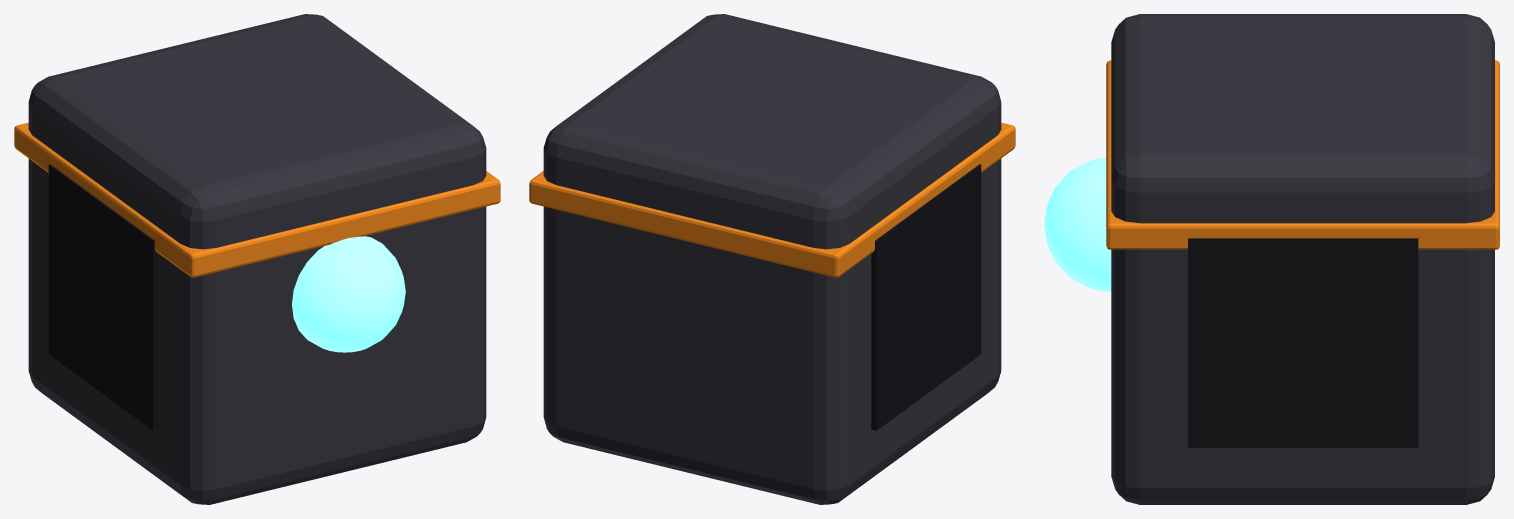
The model's file is RobotCache.fbx.
The picture shows the model from 3 angles, left to right: view 1: azimuth 30°, elevation 25°; view 2: azimuth 150°, elevation 25°; view 3: azimuth 270°, elevation 25°; orthographic projection. The views are drawn at different scales.
Parts seen in each view (by area): view 1: Part__Metal__3a3a42, Part__Metal__1c1c20, Part__SmoothPlastic__ff8c1e, Part__Neon__50c8ff; view 2: Part__Metal__3a3a42, Part__Metal__1c1c20, Part__SmoothPlastic__ff8c1e; view 3: Part__Metal__3a3a42, Part__Metal__1c1c20, Part__SmoothPlastic__ff8c1e, Part__Neon__50c8ff.
Part boxes in pixels (left/top/right/bottom): Part__Metal__3a3a42: left=28, top=14, right=486, bottom=504; Part__Metal__1c1c20: left=48, top=164, right=158, bottom=430; Part__SmoothPlastic__ff8c1e: left=14, top=122, right=500, bottom=277; Part__Neon__50c8ff: left=292, top=236, right=405, bottom=352; Part__Metal__3a3a42: left=543, top=14, right=1001, bottom=504; Part__Metal__1c1c20: left=871, top=164, right=981, bottom=430; Part__SmoothPlastic__ff8c1e: left=529, top=122, right=1015, bottom=277; Part__Metal__3a3a42: left=1111, top=14, right=1494, bottom=504; Part__Metal__1c1c20: left=1188, top=238, right=1418, bottom=447; Part__SmoothPlastic__ff8c1e: left=1106, top=60, right=1499, bottom=249; Part__Neon__50c8ff: left=1044, top=158, right=1111, bottom=291.
Bounding box in the file's own units: 2.07 × 2 × 2.37.
